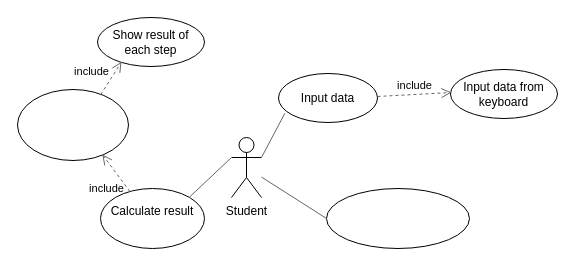
The diagram is 575 pixels wide and 266 high, and some of its shapes have lost their labels. Here are the shapes that lost their labels. From the top down, the centre of each, then its label:
At point (72, 124): "Print results".
At point (398, 218): "Data validation".
